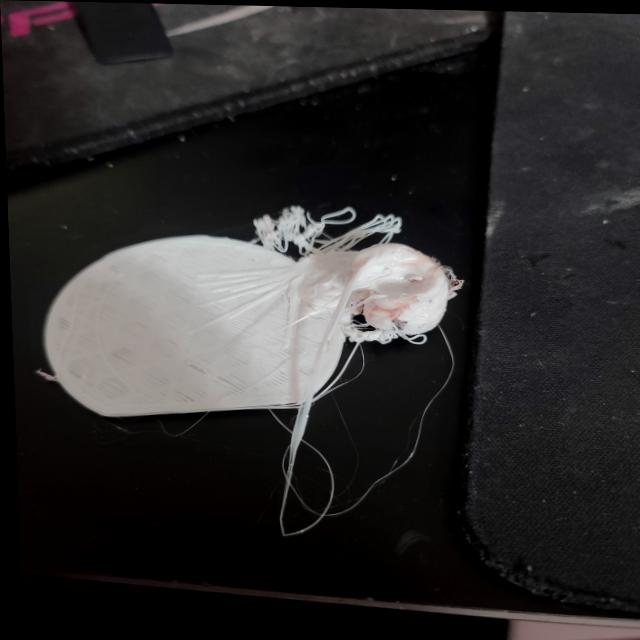spaghetti: (230, 193, 407, 268), (335, 312, 434, 353), (23, 367, 63, 386)
